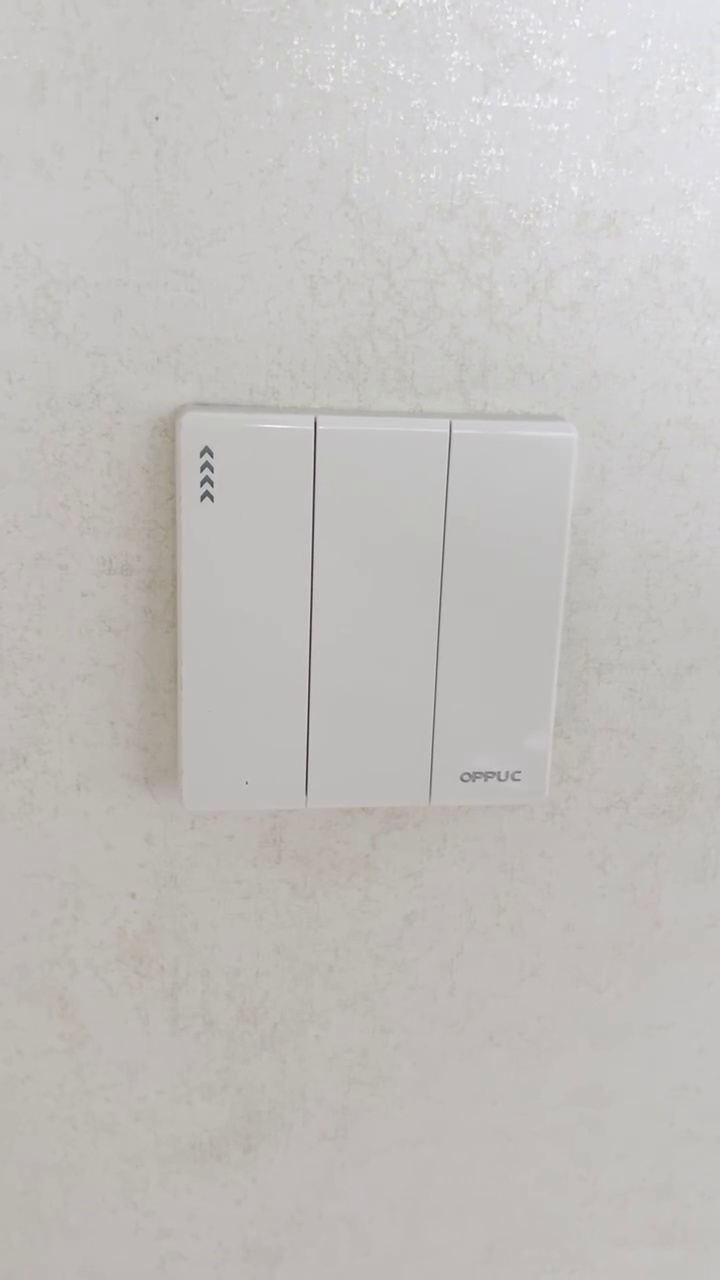button1: (434, 430, 569, 812), (310, 418, 441, 810), (188, 416, 311, 802)
